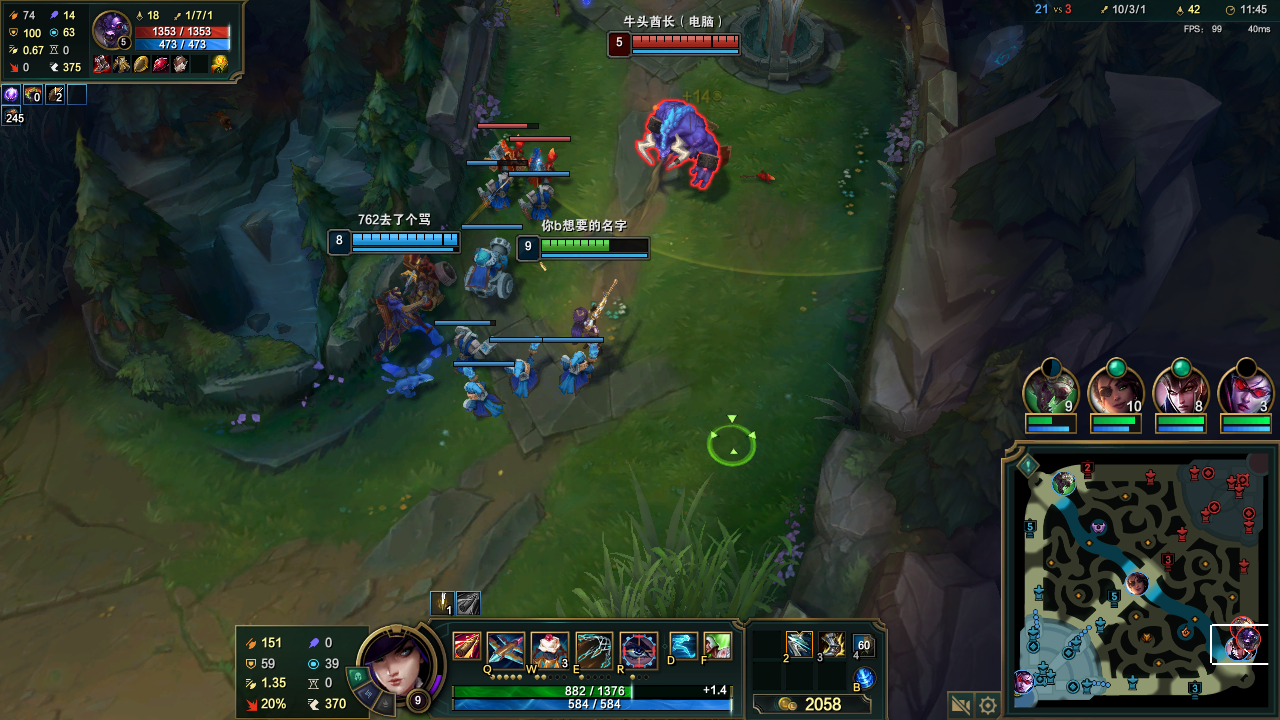DFFYT: (736, 8, 827, 87)
DFXB: (499, 142, 525, 170), (530, 155, 552, 178)
DFYX: (626, 34, 736, 49)
KF: (785, 633, 809, 648)
WFXB: (471, 243, 514, 301), (498, 347, 542, 392), (466, 372, 502, 418), (557, 354, 597, 389), (451, 326, 489, 359), (532, 188, 561, 218), (483, 175, 512, 203)
